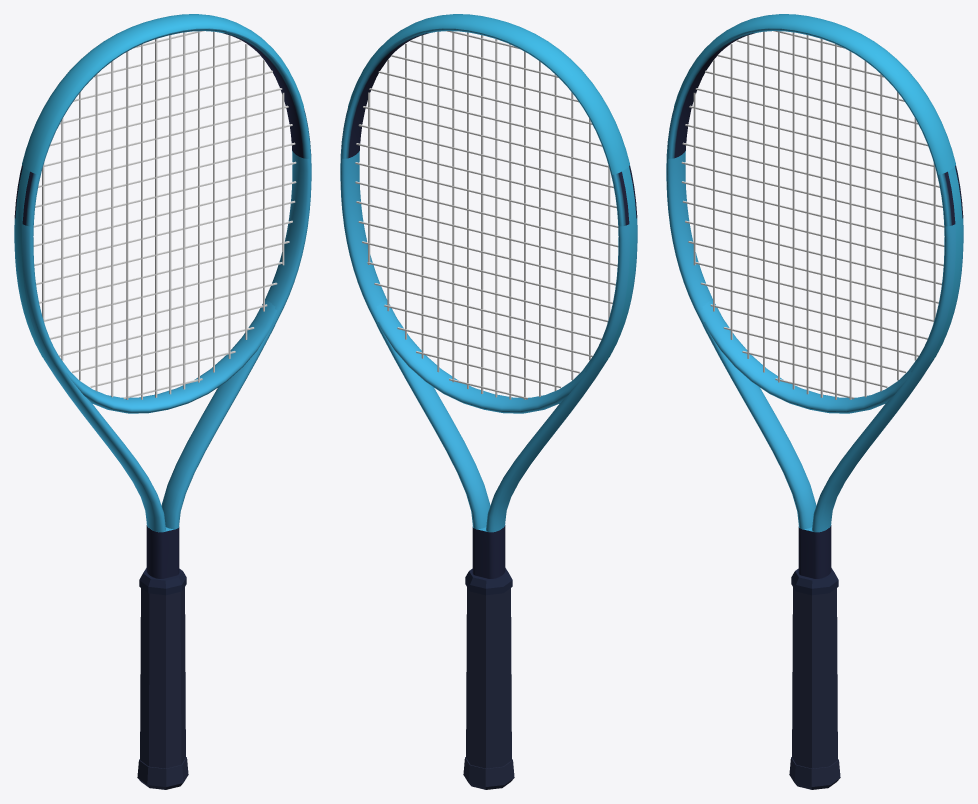
The model's file is head-boom-team-2026.glb.
The picture shows the model from 3 angles, left to right: view 1: azimuth 30°, elevation 25°; view 2: azimuth 150°, elevation 25°; view 3: azimuth 330°, elevation 25°; orthographic projection.
Visible parts, largest first — view 1: frame, strings_mains, strings_crosses, grip, bumper, grommets, butt_cap, collar; view 2: frame, strings_mains, strings_crosses, grip, bumper, grommets, butt_cap, collar; view 3: frame, strings_mains, strings_crosses, grip, bumper, grommets, butt_cap, collar.
Boxes of the visible parts, <box> form: frame: <box>14,28,311,578</box>; strings_mains: <box>42,31,284,399</box>; strings_crosses: <box>33,31,296,399</box>; grip: <box>140,587,185,768</box>; bumper: <box>22,14,303,174</box>; grommets: <box>15,167,48,361</box>; butt_cap: <box>137,757,188,789</box>; collar: <box>139,568,186,595</box>; frame: <box>340,28,637,578</box>; strings_mains: <box>368,31,610,399</box>; strings_crosses: <box>355,31,618,399</box>; grip: <box>466,587,511,768</box>; bumper: <box>348,14,629,174</box>; grommets: <box>603,167,636,361</box>; butt_cap: <box>463,757,514,789</box>; collar: <box>465,568,512,595</box>; frame: <box>666,28,963,578</box>; strings_mains: <box>693,31,935,399</box>; strings_crosses: <box>681,31,944,399</box>; grip: <box>792,587,837,768</box>; bumper: <box>674,14,955,174</box>; grommets: <box>929,167,962,361</box>; butt_cap: <box>789,757,840,789</box>; collar: <box>791,568,838,595</box>.
Size of the model in its own units: 0.2781 by 0.6963 by 0.0396.
